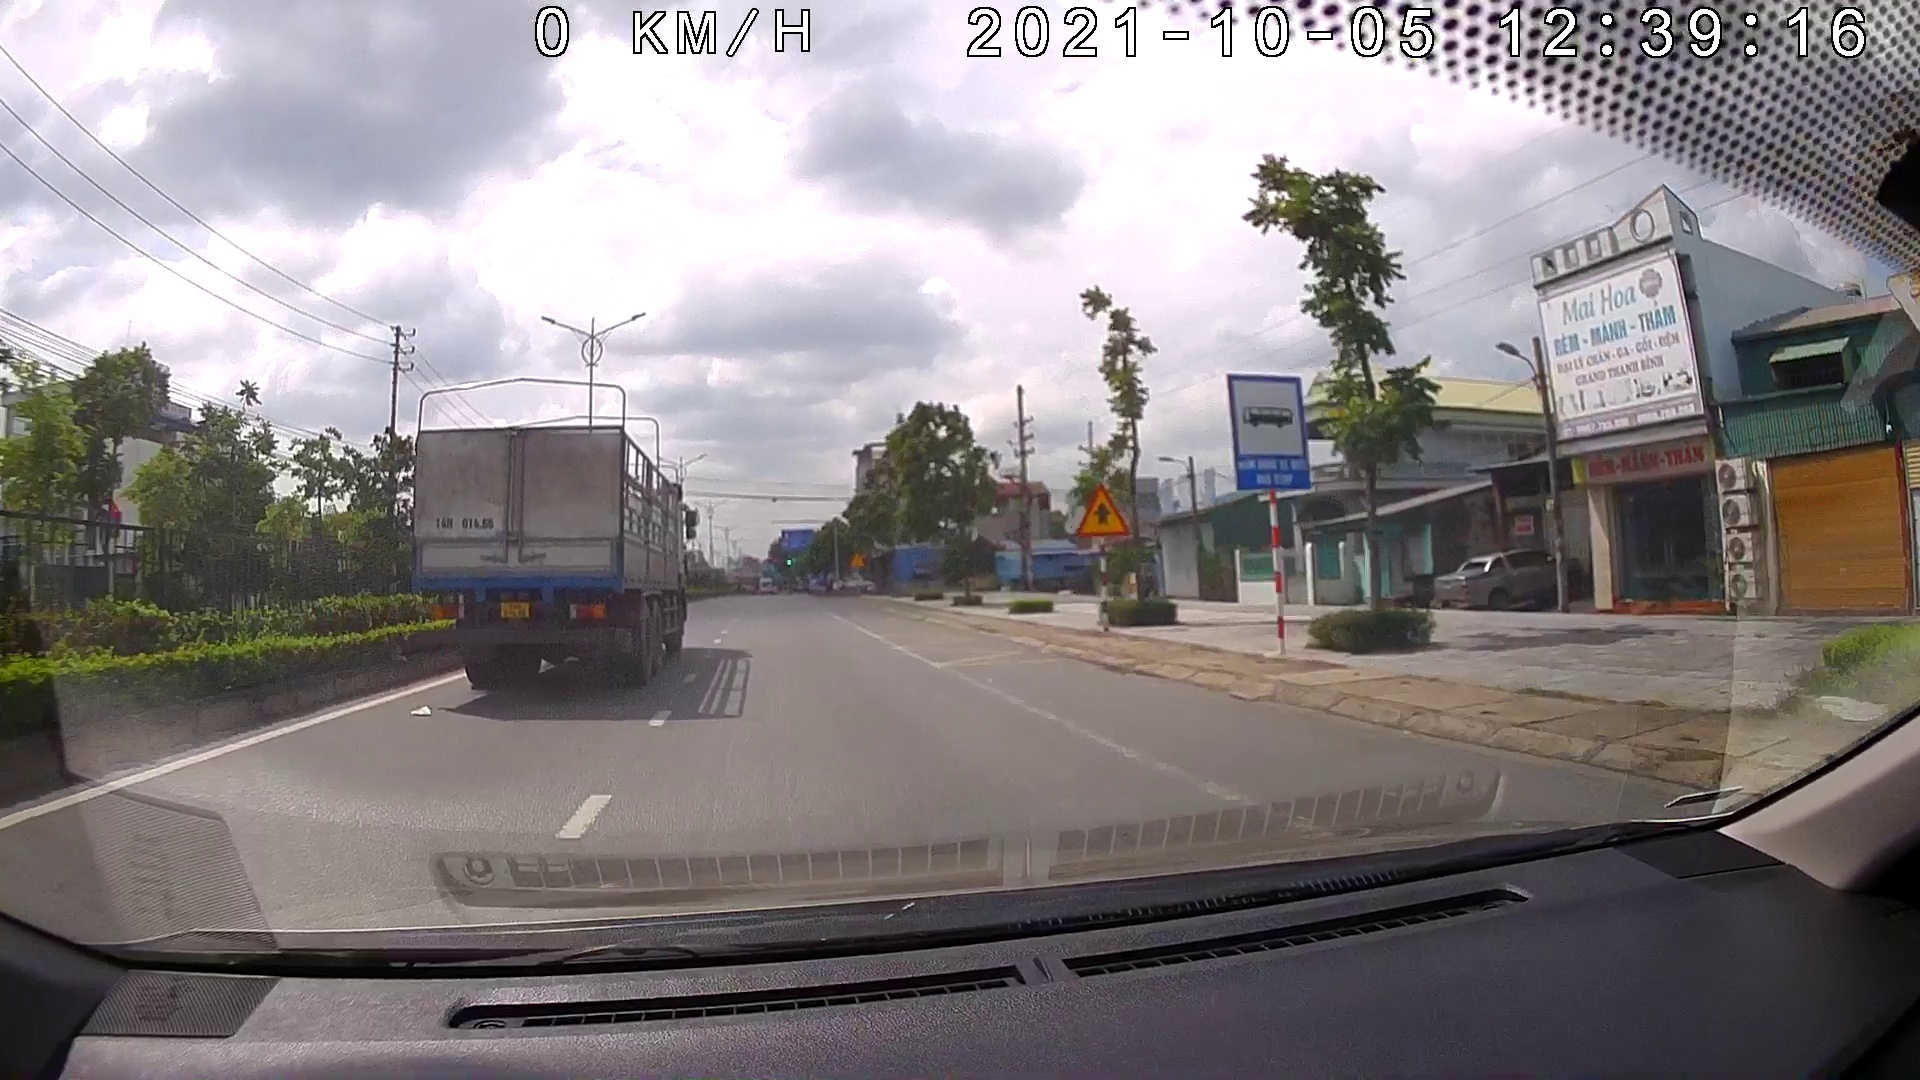Bien khac: (1224, 373, 1317, 488)
Giao nhau voi duong khong uu tien: (1071, 484, 1131, 535)
